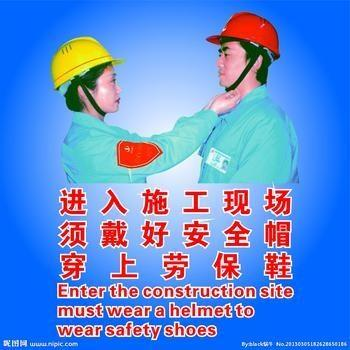helmet: (48, 34, 126, 91), (204, 7, 285, 59)
